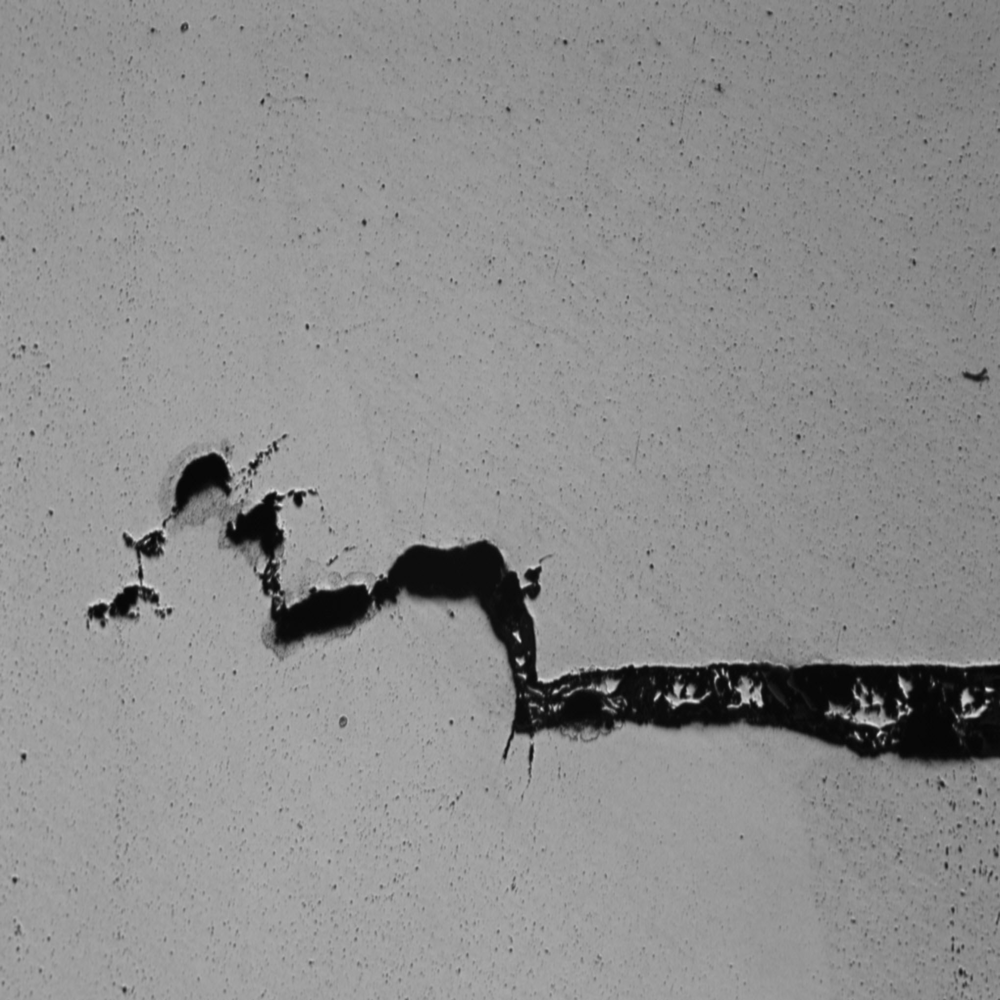crack: (53, 386, 991, 806)
